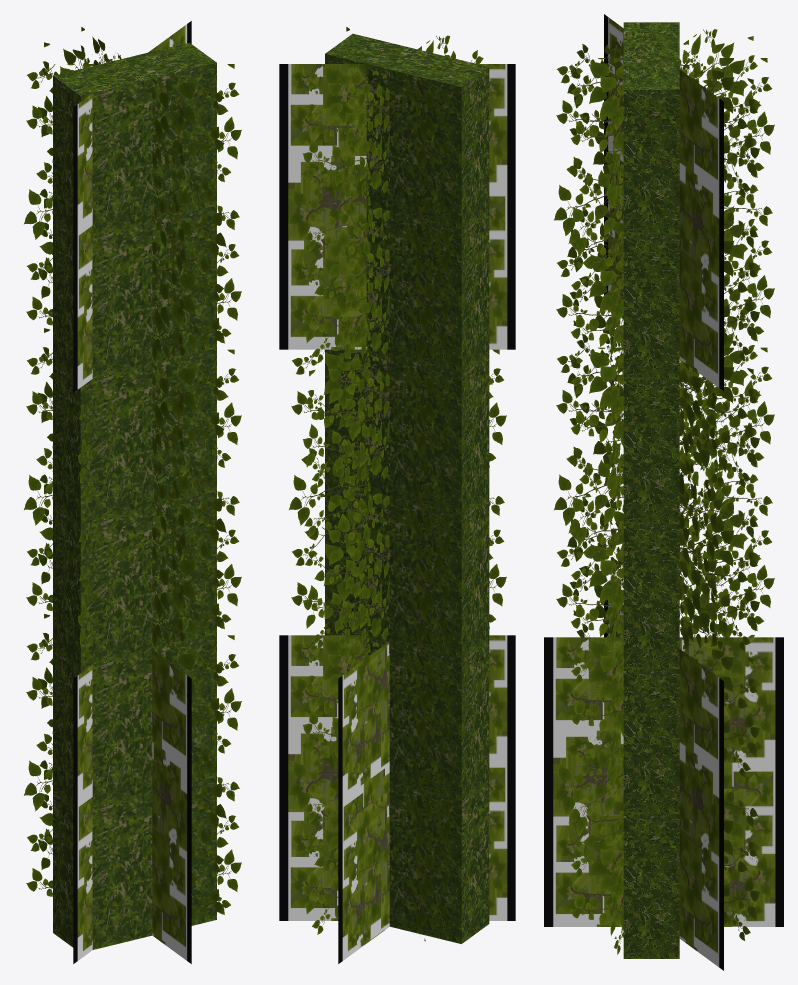
The model's file is Bush2.fbx.
3 renders of one model, left to right at view 1: azimuth 30°, elevation 25°; view 2: azimuth 150°, elevation 25°; view 3: azimuth 270°, elevation 25°, orthographic.
Visible parts, largest first — view 1: Plane.026, Plane.012, Plane.011, Plane.010, Plane.013, Plane.014, Plane.015, Plane.021, Plane.024, Plane.019, Plane.006, Plane.022 (+6 smaller); view 2: Plane.021, Plane.019, Plane.026, Plane.012, Plane.011, Plane.010, Plane.015, Plane.013, Plane.014, Plane.025, Plane.005, Plane.020 (+6 smaller); view 3: Plane.015, Plane.021, Plane.019, Plane.026, Plane.016, Plane.005, Plane.023, Plane.006, Plane.010, Plane.011, Plane.013, Plane.012 (+9 smaller).
Boxes of the visible parts, <box> form: Plane.026: <box>53,42,216,235</box>; Plane.012: <box>53,348,216,524</box>; Plane.011: <box>53,491,216,667</box>; Plane.010: <box>53,205,216,378</box>; Plane.013: <box>53,634,216,806</box>; Plane.014: <box>53,777,216,949</box>; Plane.015: <box>152,650,191,963</box>; Plane.021: <box>73,21,191,392</box>; Plane.024: <box>38,42,226,361</box>; Plane.019: <box>73,665,92,963</box>; Plane.006: <box>38,328,226,646</box>; Plane.022: <box>24,64,241,343</box>; Plane.021: <box>279,64,515,349</box>; Plane.019: <box>279,635,515,920</box>; Plane.026: <box>325,33,489,229</box>; Plane.012: <box>325,349,489,515</box>; Plane.011: <box>325,482,489,658</box>; Plane.010: <box>366,207,489,372</box>; Plane.015: <box>338,641,389,963</box>; Plane.013: <box>325,625,489,801</box>; Plane.014: <box>389,781,489,943</box>; Plane.025: <box>303,50,483,363</box>; Plane.005: <box>302,354,492,648</box>; Plane.020: <box>289,349,506,635</box>; Plane.015: <box>544,637,783,926</box>; Plane.021: <box>604,14,723,391</box>; Plane.019: <box>604,599,723,970</box>; Plane.026: <box>623,22,679,234</box>; Plane.016: <box>553,347,774,637</box>; Plane.005: <box>567,333,759,651</box>; Plane.023: <box>553,58,774,347</box>; Plane.006: <box>568,332,759,649</box>; Plane.010: <box>623,234,679,379</box>; Plane.011: <box>623,524,679,669</box>; Plane.013: <box>623,669,679,814</box>; Plane.012: <box>623,379,679,524</box>.
Bounding box in the file's own units: 130 × 600 × 150.
